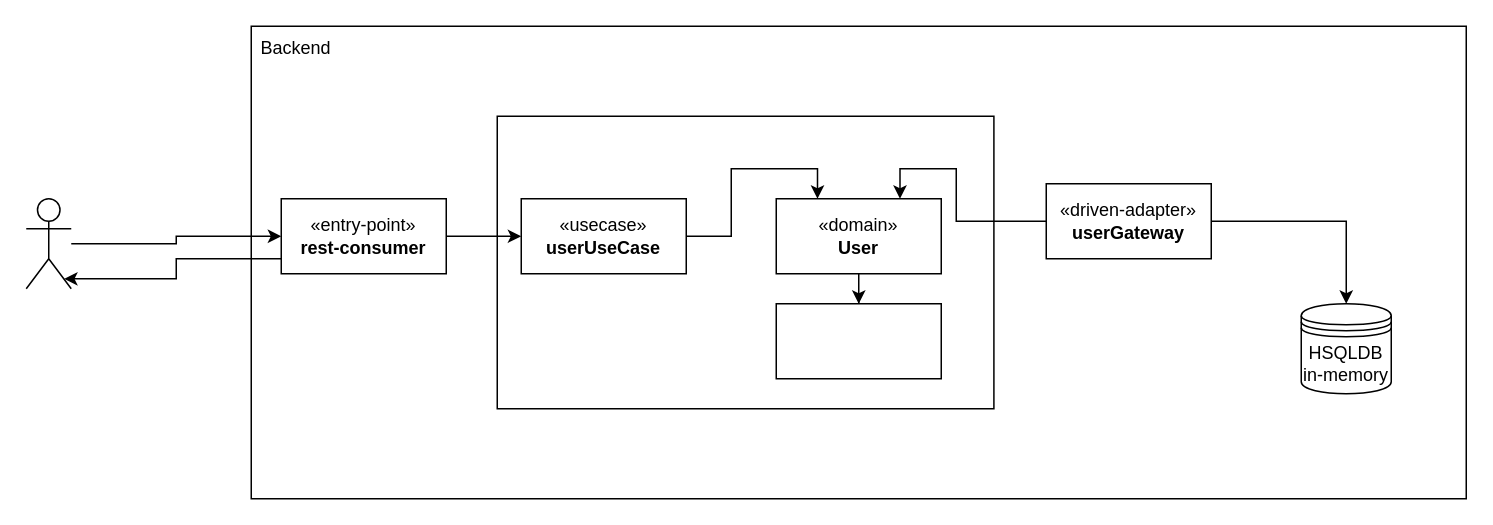
The diagram is 1493 pixels wide and 525 high, and some of its shapes have lost their labels. The box of each missing label's shape, as (x1, y1, x2, y2) in pixels:
User: (25, 197, 71, 289)
«domain» Phone: (775, 302, 941, 379)
